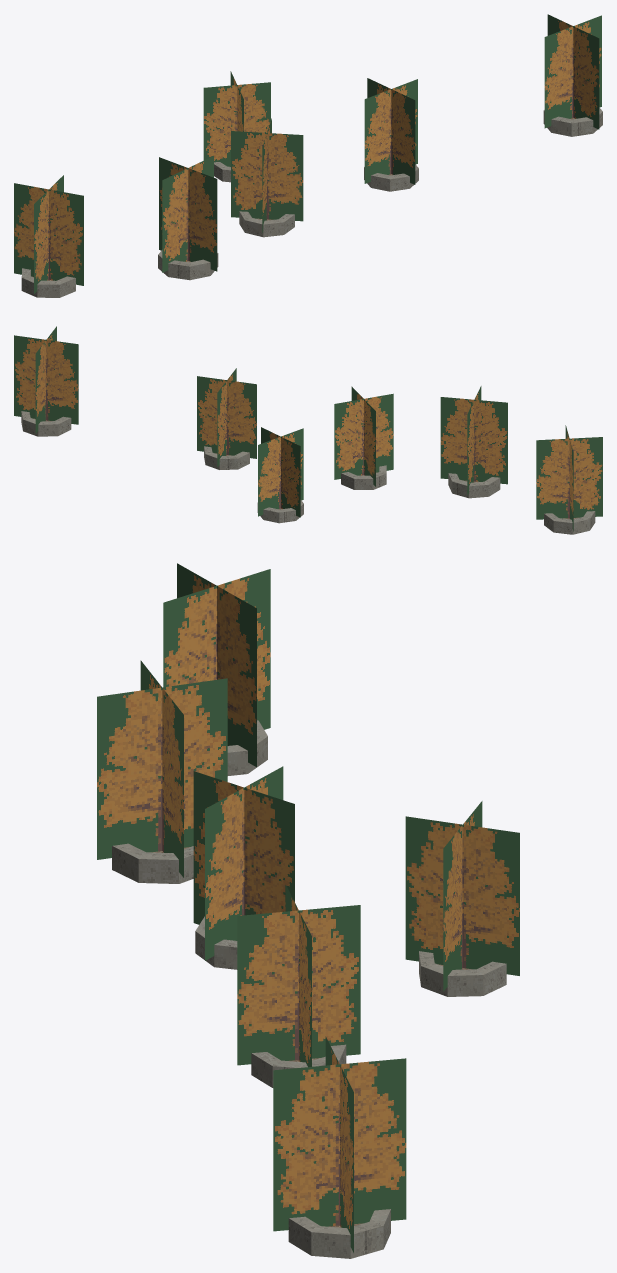
File: procgen-procpain-tree-park-large-x0z2.obj
3 renders of one model, top to bottom at view 1: azimuth 30°, elevation 25°; view 2: azimuth 150°, elevation 25°; view 3: azimuth 270°, elevation 25°, orthographic. The views are drawn at different scales.
Bounding box in the file's own units: 47.17 × 7.26 × 15.86.
